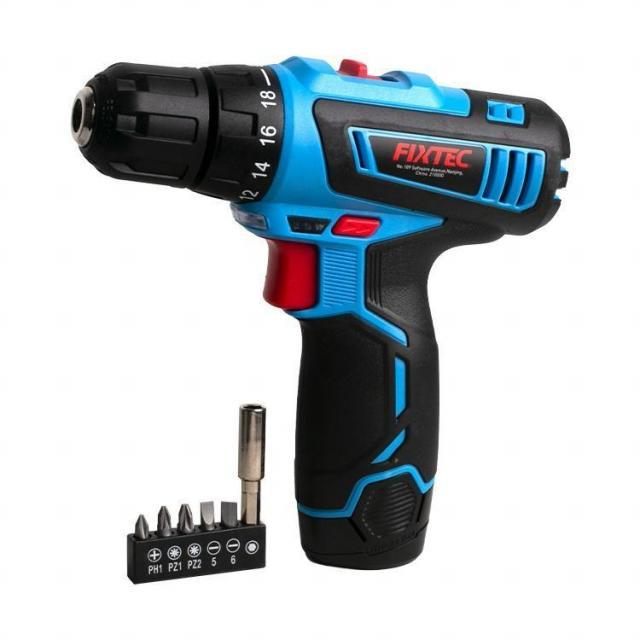drill: (70, 56, 572, 572)
